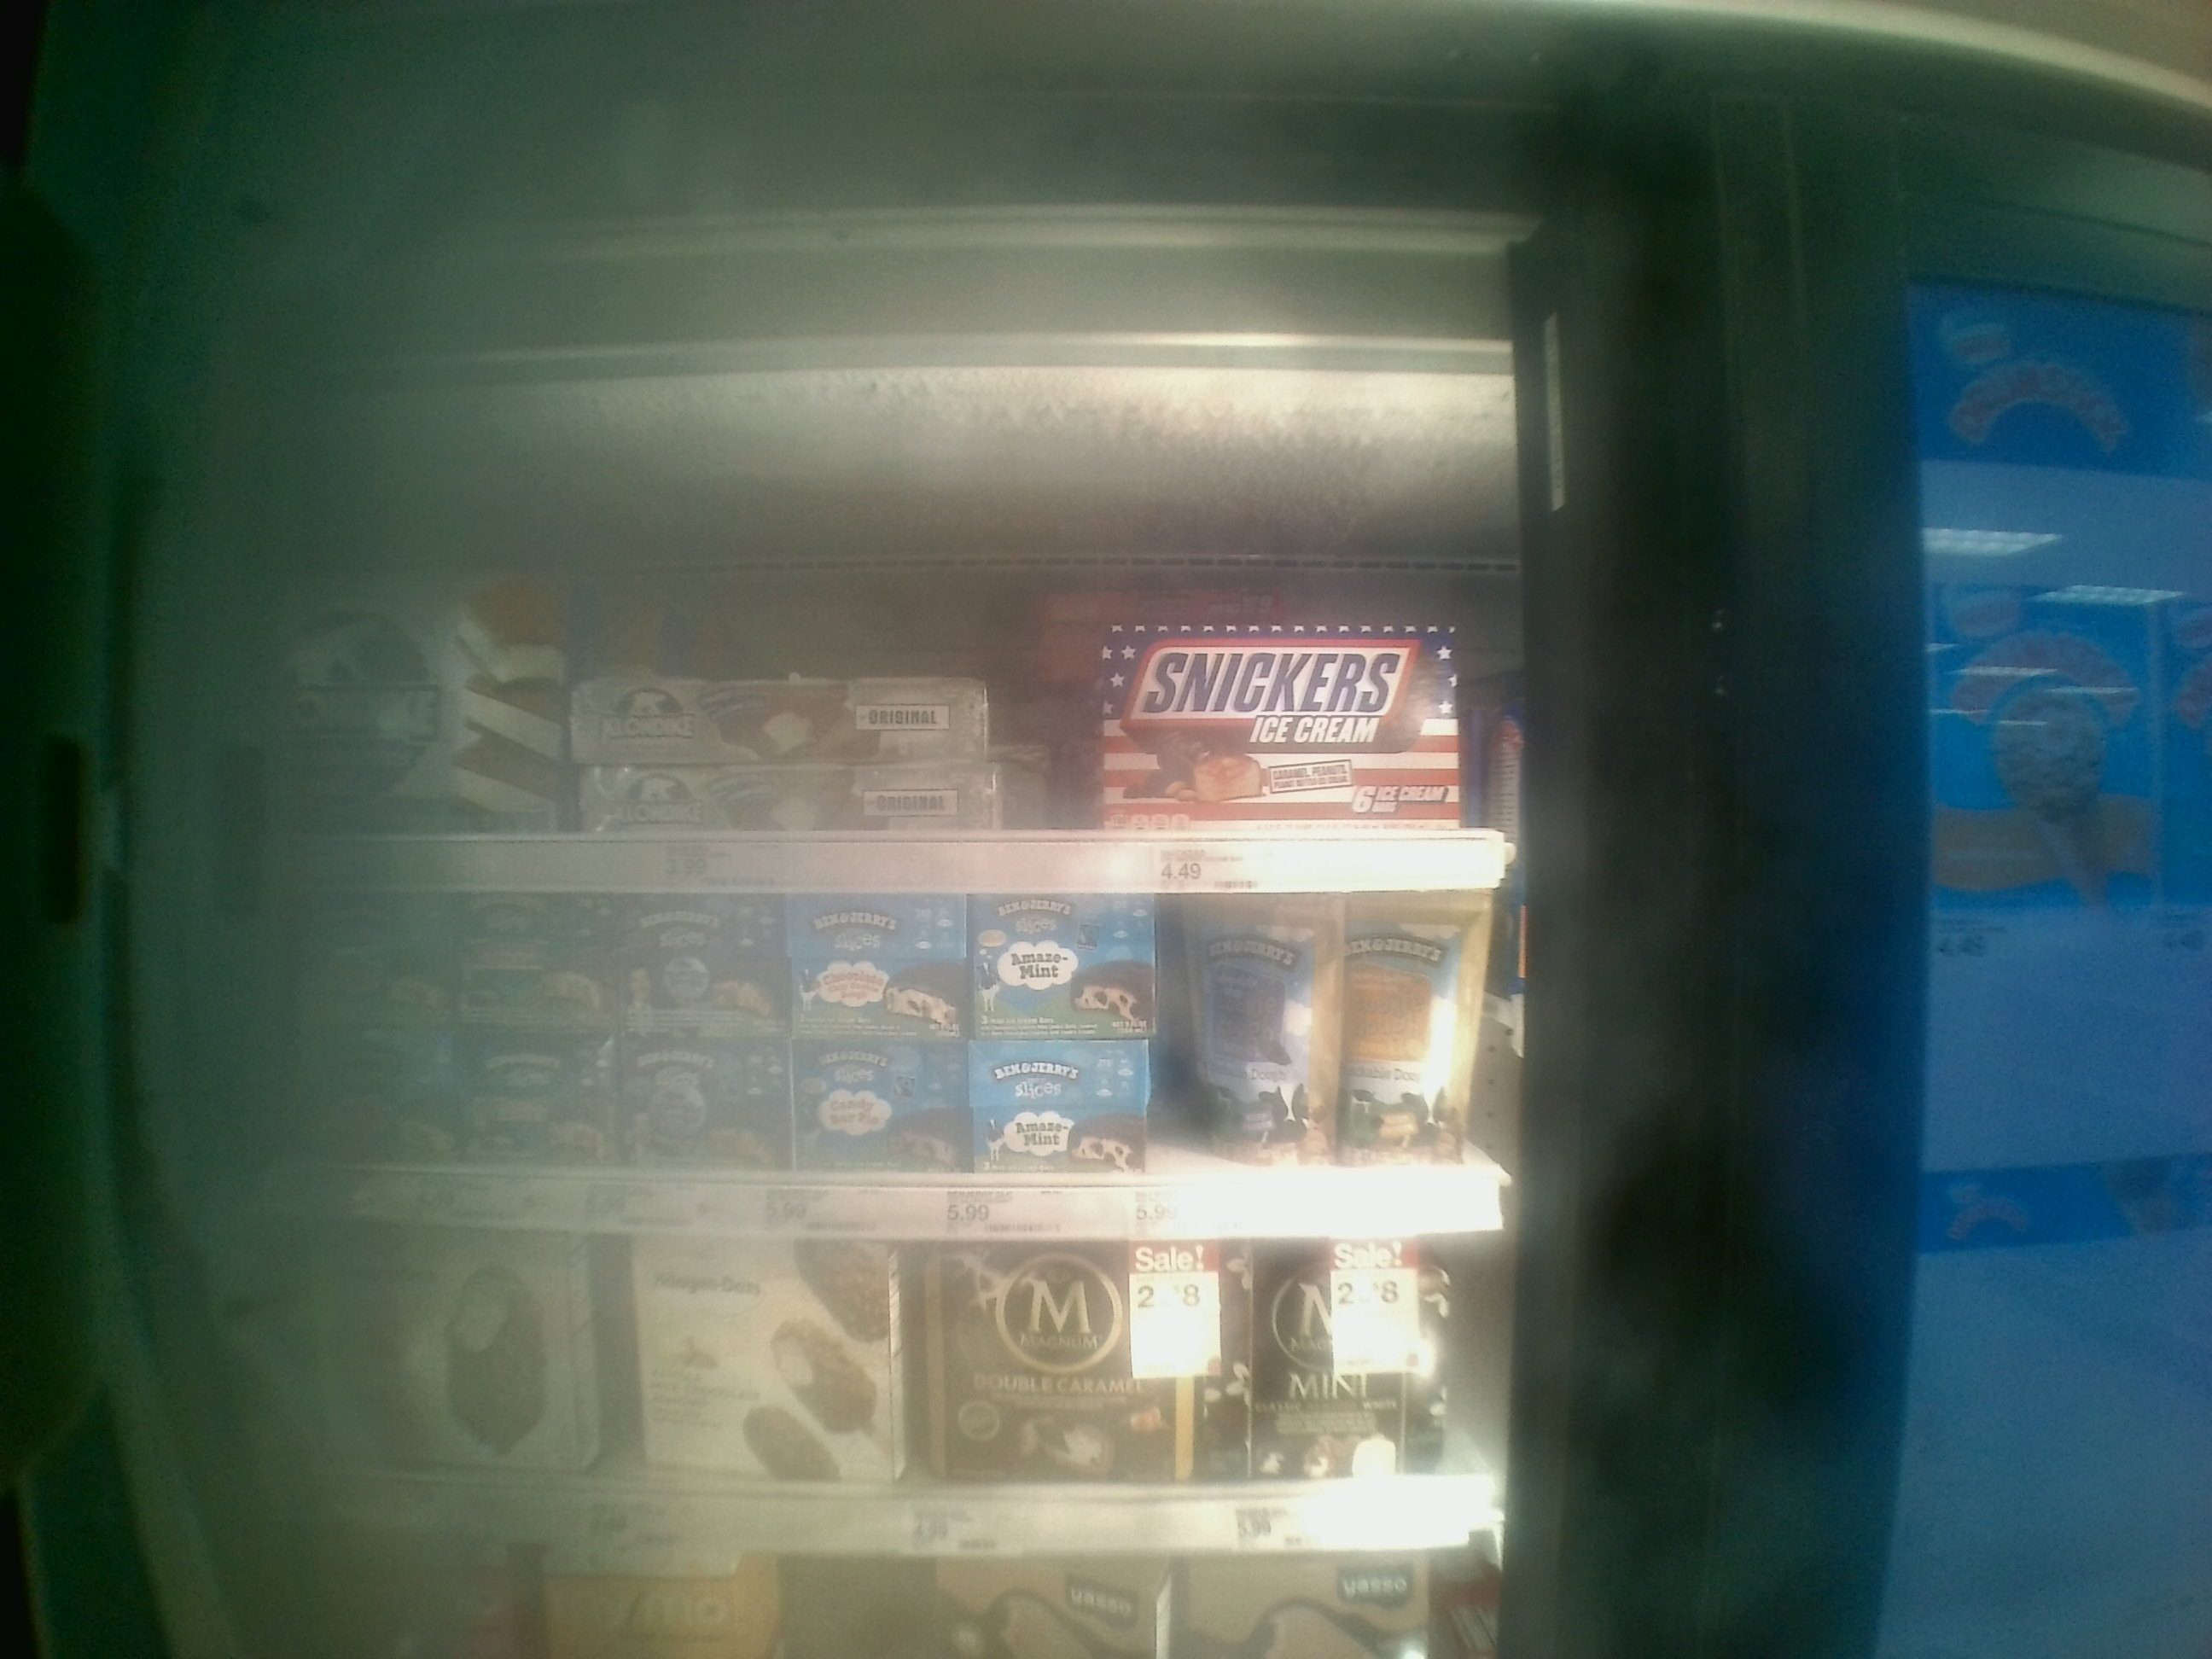ice-cream-shelf: (263, 887, 1515, 1241)
